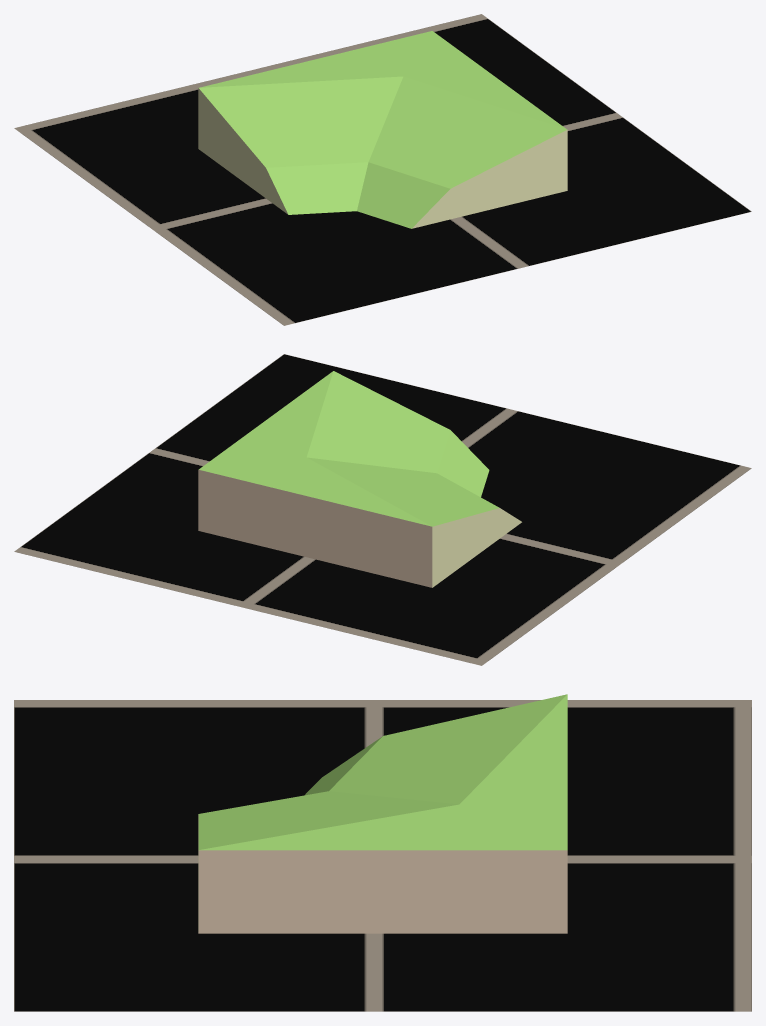
The model's file is Grass_Carpet_Curve_Inner_1x1.glb.
The picture shows the model from 3 angles, top to bottom: view 1: azimuth 30°, elevation 25°; view 2: azimuth 150°, elevation 25°; view 3: azimuth 270°, elevation 25°; orthographic projection. The views are drawn at different scales.
Parts seen in each view (by area): view 1: Floor, Grass_Carpet_Curve_Inner_1x1; view 2: Floor, Grass_Carpet_Curve_Inner_1x1; view 3: Floor, Grass_Carpet_Curve_Inner_1x1.
Part boxes in pixels (left/top/right/bottom): Floor: left=14, top=14, right=751, bottom=325; Grass_Carpet_Curve_Inner_1x1: left=198, top=31, right=567, bottom=228; Floor: left=14, top=354, right=751, bottom=665; Grass_Carpet_Curve_Inner_1x1: left=198, top=371, right=521, bottom=587; Floor: left=14, top=700, right=751, bottom=1011; Grass_Carpet_Curve_Inner_1x1: left=198, top=694, right=567, bottom=933.
Bounding box in the file's own units: 200 × 25 × 200.
5 materials, 1 textured.
